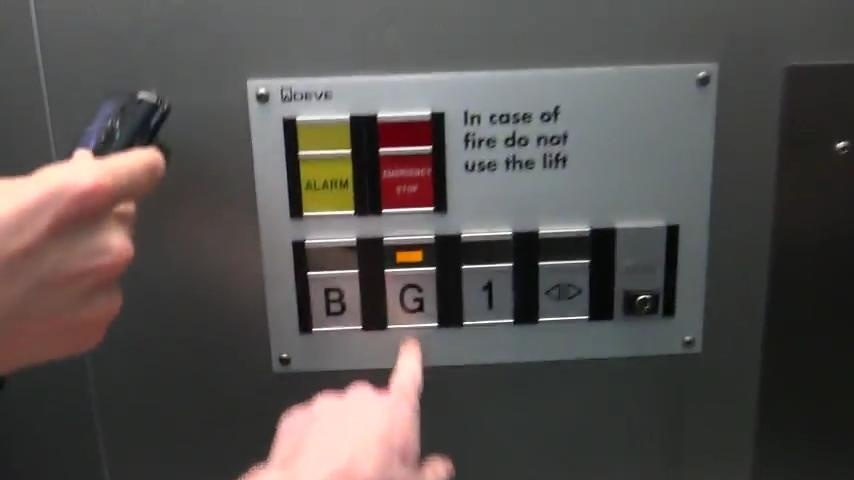1: (456, 258, 518, 328)
B: (304, 265, 366, 335)
G: (381, 263, 443, 333)
open: (533, 257, 595, 327)
text: (375, 142, 440, 219), (295, 146, 358, 218)
